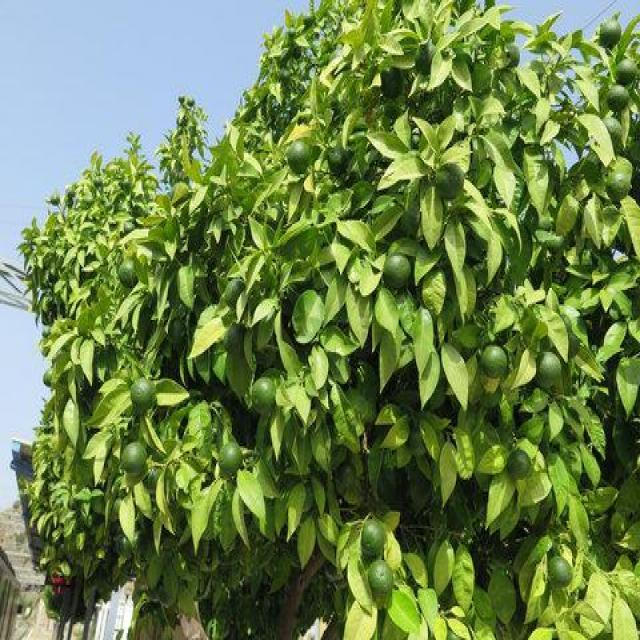Jeruk Belum Matang: (533, 350, 563, 386), (480, 343, 510, 377), (434, 165, 464, 198), (369, 558, 394, 596), (248, 378, 275, 412), (121, 442, 147, 477), (548, 556, 575, 588), (216, 444, 243, 474), (130, 378, 154, 411), (288, 140, 311, 174), (363, 523, 388, 553), (223, 324, 246, 356), (386, 256, 410, 286), (378, 67, 402, 96), (606, 174, 630, 201), (414, 44, 436, 73), (614, 58, 638, 84), (509, 450, 531, 478), (226, 279, 246, 308), (600, 22, 622, 46), (606, 86, 628, 110), (120, 261, 139, 288)
